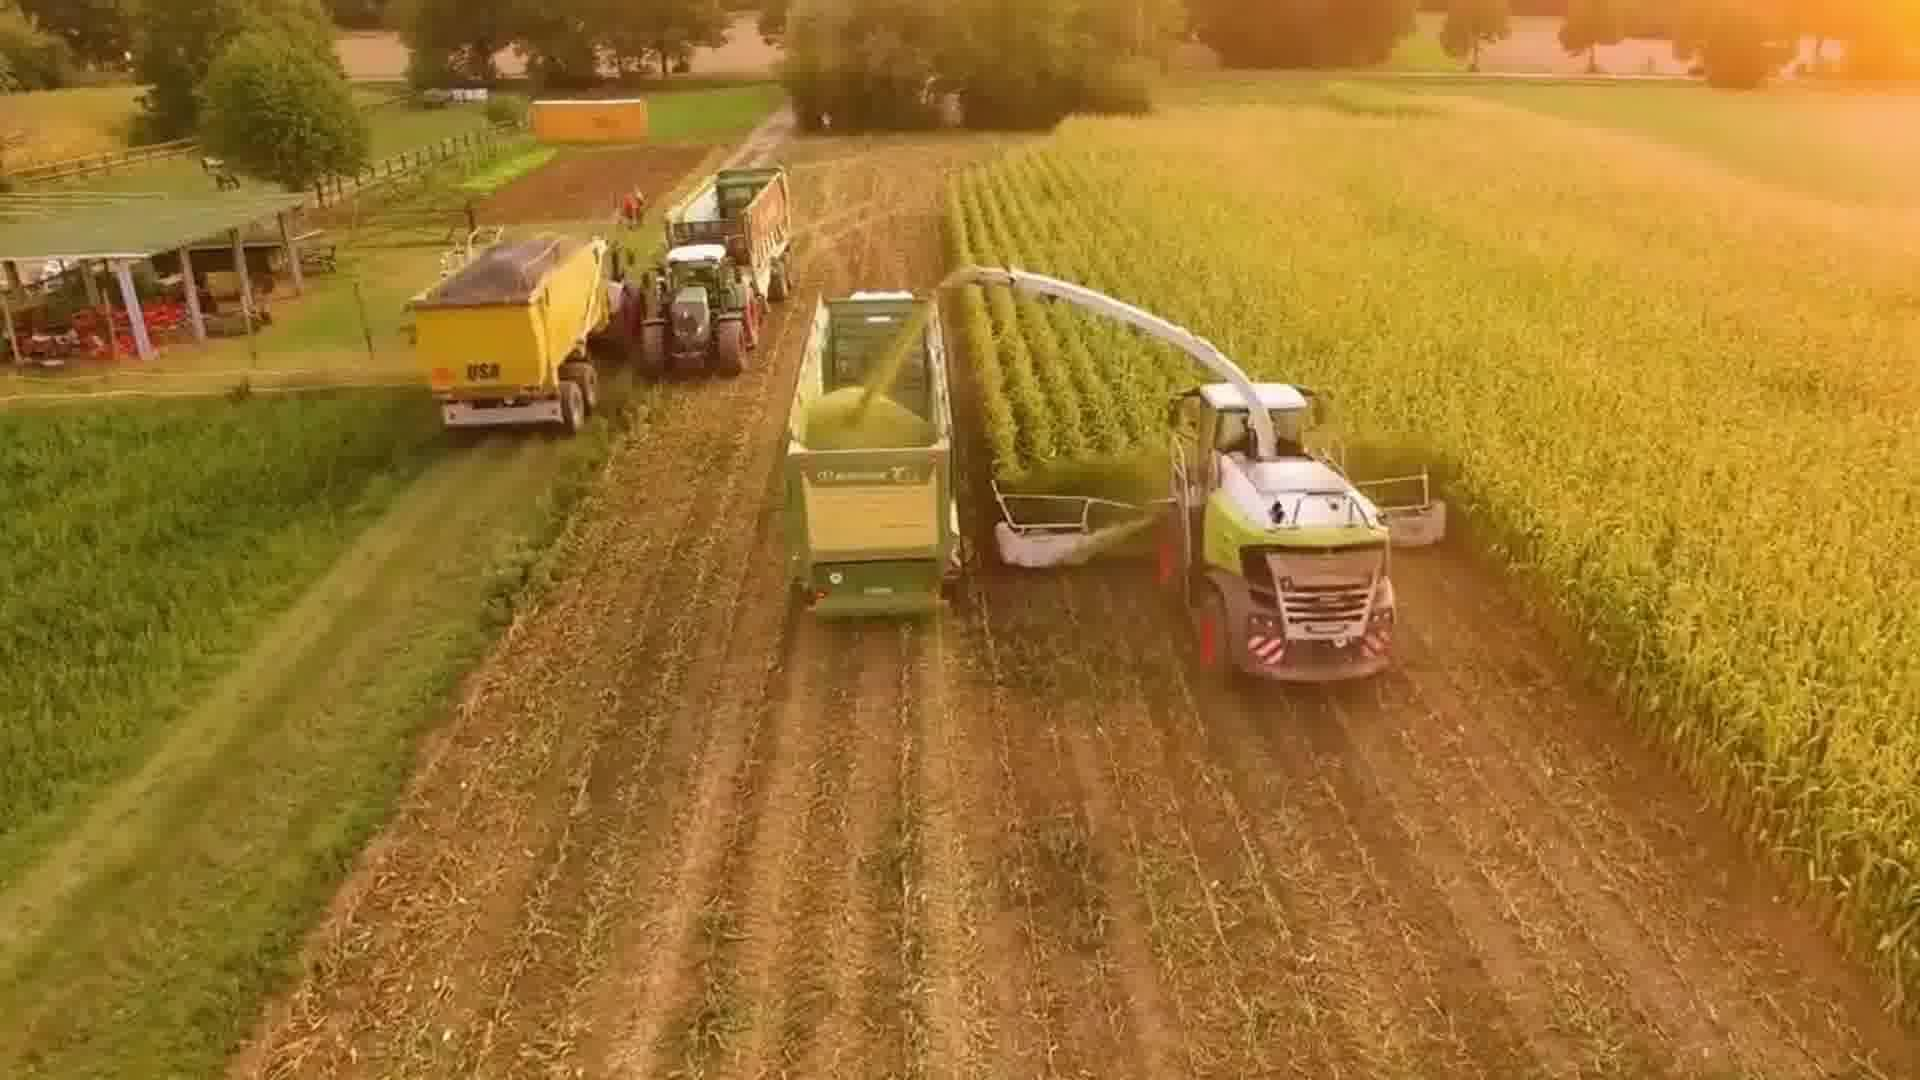combine harvester: (949, 260, 1460, 698)
tractor: (633, 243, 764, 375), (588, 228, 638, 347)
trailer: (778, 295, 963, 629), (409, 224, 605, 447), (665, 161, 800, 298)
